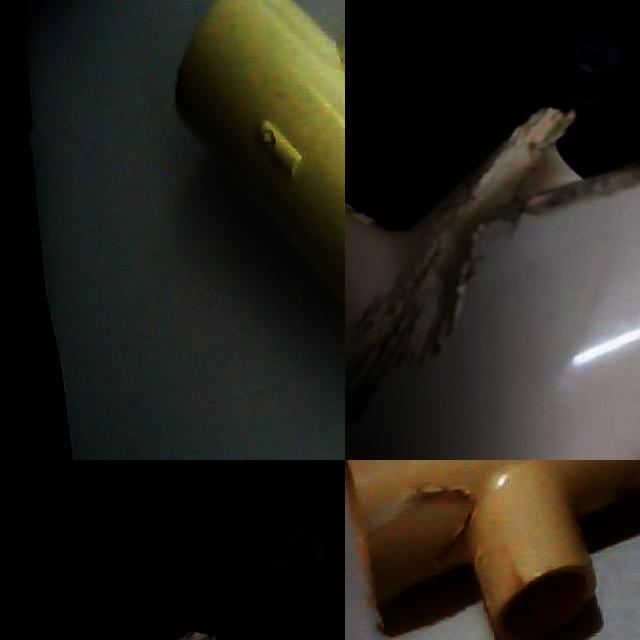Defective: (368, 469, 481, 608), (510, 102, 640, 220), (403, 221, 479, 348), (477, 168, 524, 264)
T Joint: (173, 0, 345, 311), (345, 460, 640, 640)
